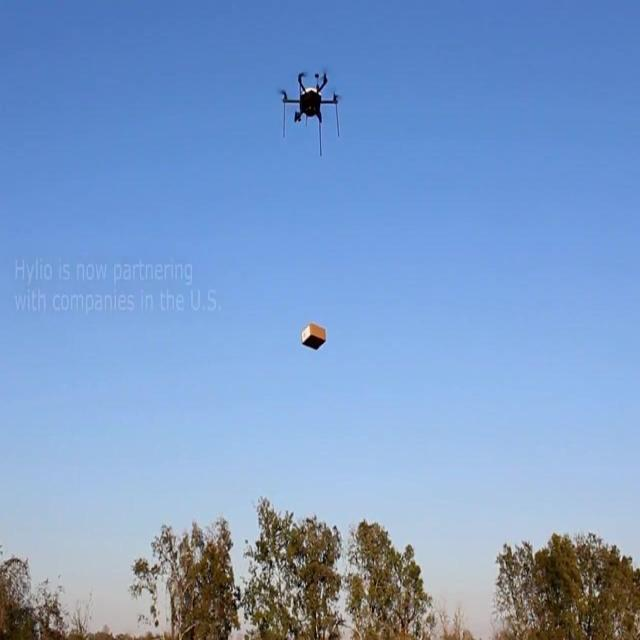drone: (274, 67, 346, 160)
